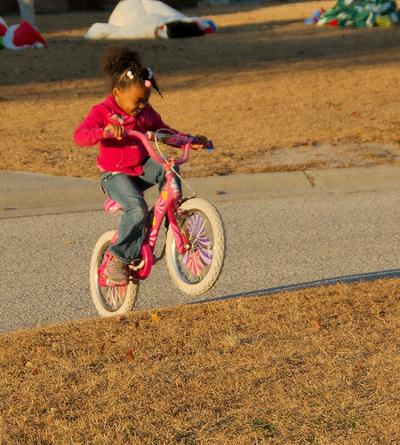person: (73, 46, 215, 285)
